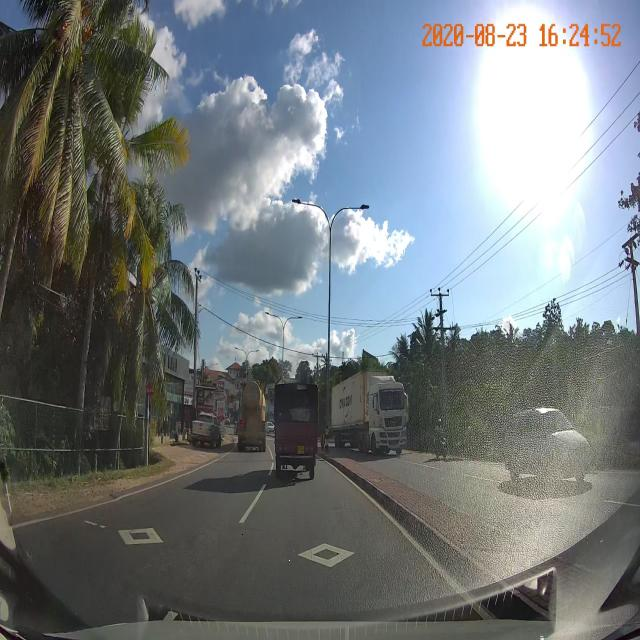diamond: (240, 533, 462, 603)
